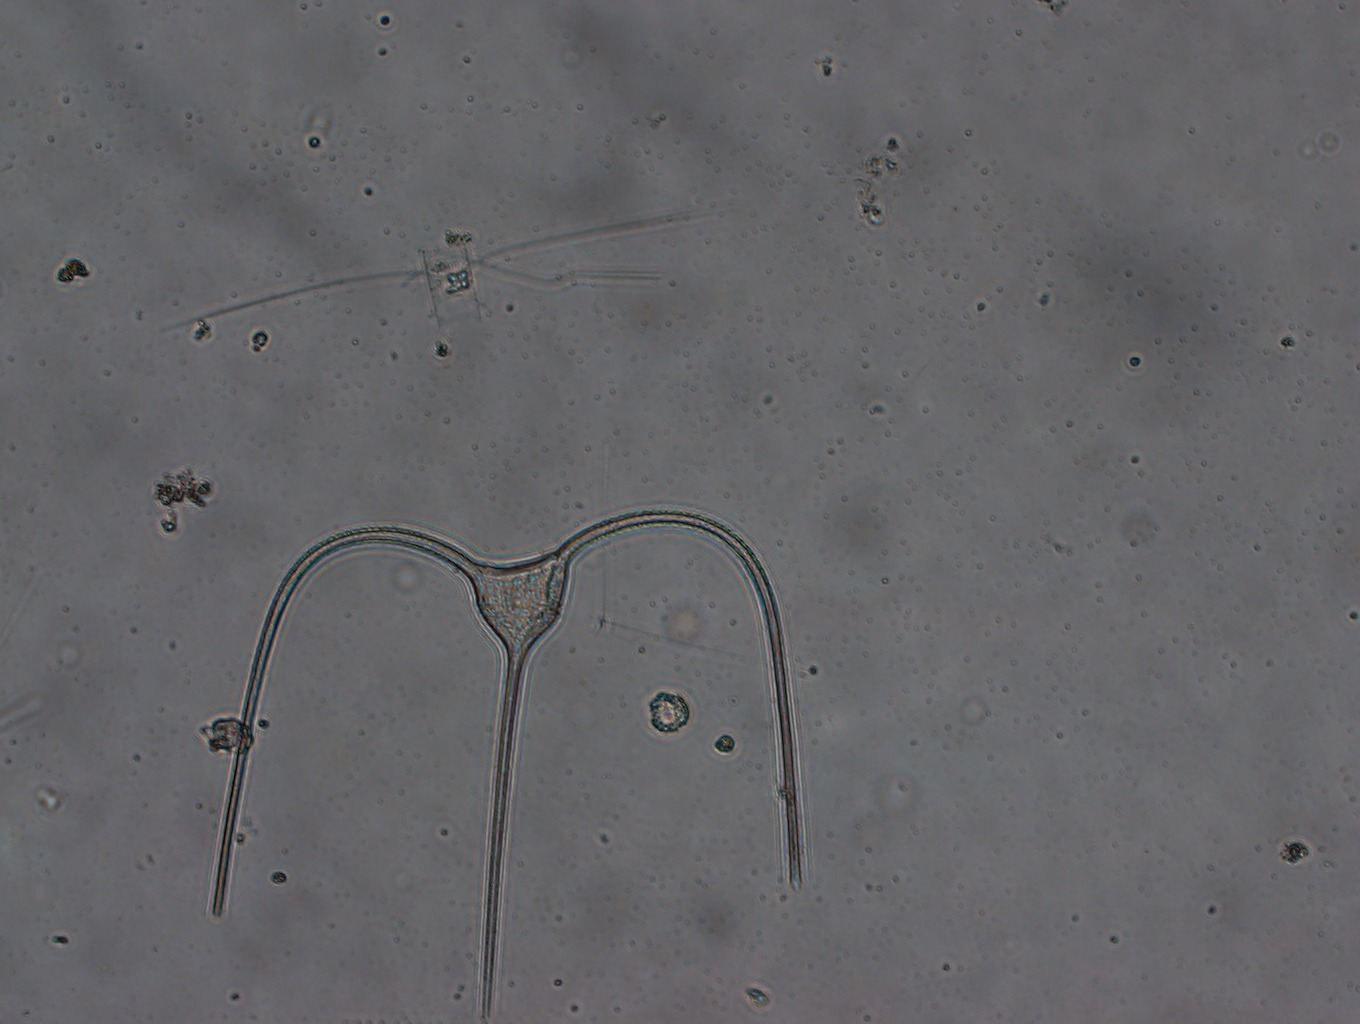ceratium trichoceros: (207, 510, 805, 1018)
chaetoceros: (153, 208, 719, 339)
